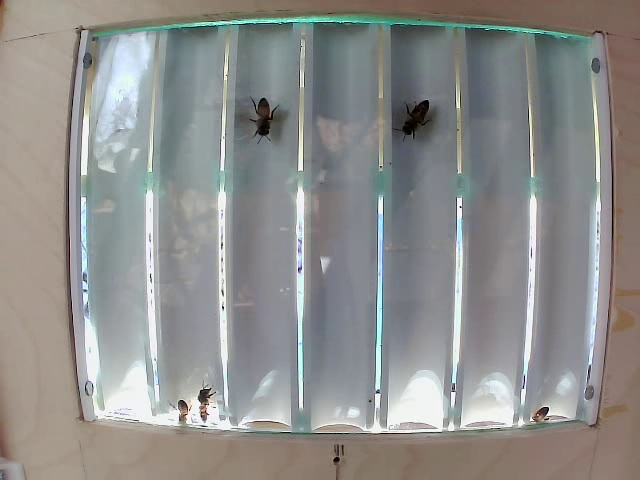bee: (239, 96, 284, 143), (399, 102, 441, 141)
